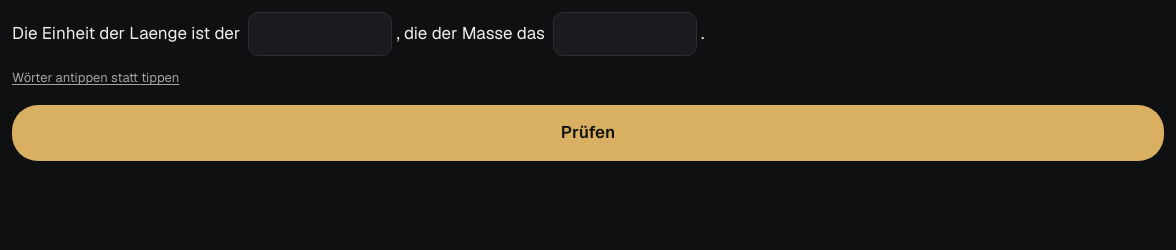
Test case: ClozeCard – Wortbank › schaltet auf antippbare Lücken um
Click the button "Wörter antippen statt tippen": (96, 78) [12,68,179,88]
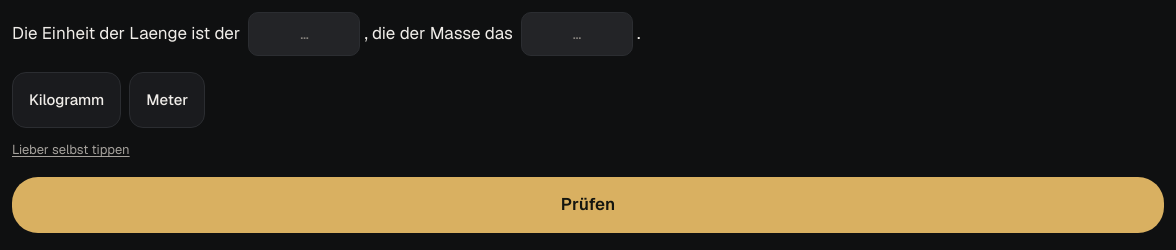
Result: the button "Lieber selbst tippen" is shown at [12,140,130,160]
